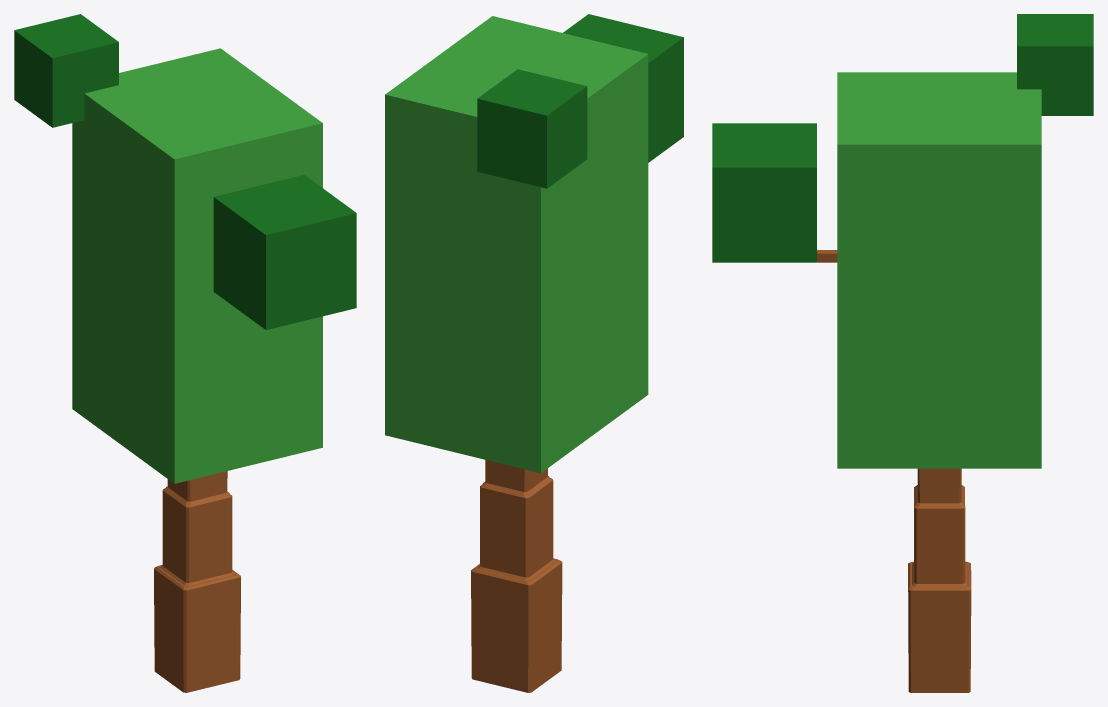
Rendered from TREE2.fbx.
3 renders of one model, left to right at view 1: azimuth 30°, elevation 25°; view 2: azimuth 150°, elevation 25°; view 3: azimuth 270°, elevation 25°, orthographic. The views are drawn at different scales.
Visible parts, largest first — view 1: Cube.001, Cube.003, Cube, Cube.004; view 2: Cube.001, Cube, Cube.004, Cube.003; view 3: Cube.001, Cube.003, Cube, Cube.004.
Part boxes in pixels (<box>): Cube.001: <box>72,48,322,483</box>; Cube.003: <box>213,174,356,329</box>; Cube: <box>154,471,240,692</box>; Cube.004: <box>14,14,118,127</box>; Cube.001: <box>385,16,648,473</box>; Cube: <box>471,460,562,692</box>; Cube.004: <box>477,69,587,188</box>; Cube.003: <box>563,14,683,162</box>; Cube.001: <box>837,72,1041,468</box>; Cube.003: <box>712,123,816,262</box>; Cube: <box>908,468,971,692</box>; Cube.004: <box>1017,14,1093,115</box>.
Size of the model in its own units: 729 by 2372 by 1337.
